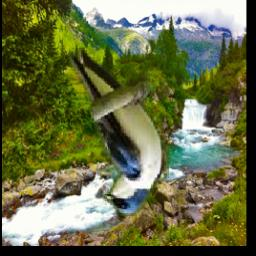Swallow: (68, 49, 168, 217)
